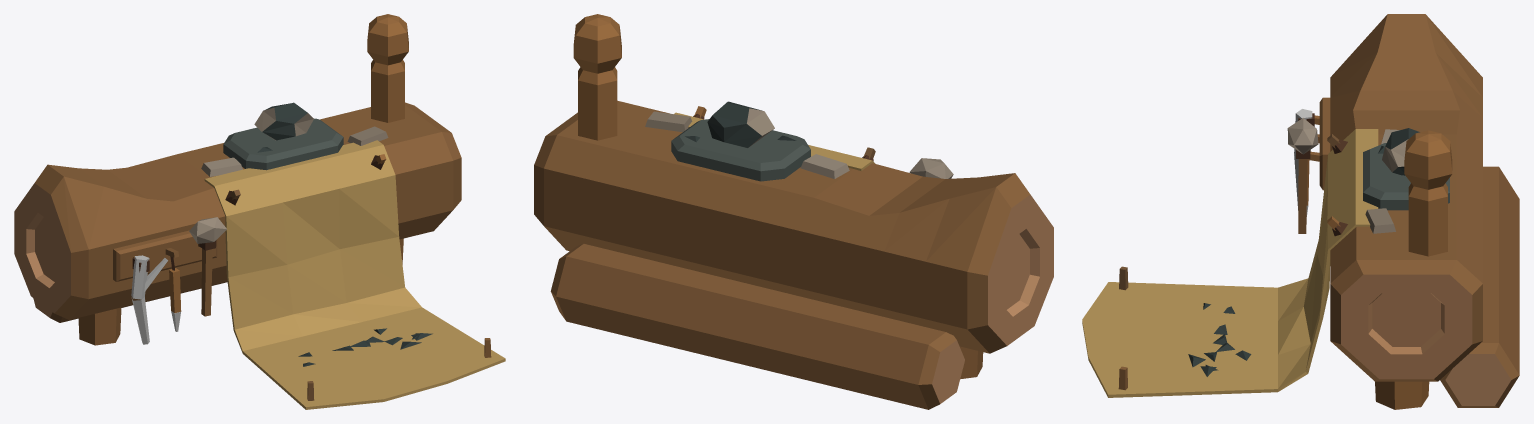
The model's file is flint-knapping-work-seat-c6daf6.glb.
The picture shows the model from 3 angles, left to right: view 1: azimuth 30°, elevation 25°; view 2: azimuth 150°, elevation 25°; view 3: azimuth 270°, elevation 25°; orthographic projection. The views are drawn at different scales.
Visible parts, largest first — view 1: seat-static, workpiece-mesh, tool-hammer-mesh, tool-billet-mesh, flakes-mesh, tool-flaker-mesh; view 2: seat-static, workpiece-mesh, tool-hammer-mesh; view 3: seat-static, tool-hammer-mesh, workpiece-mesh, flakes-mesh, tool-billet-mesh.
Boxes of the visible parts, x1,y1,x2,y2 form: seat-static: (14,14,505,409); workpiece-mesh: (254,102,313,152); tool-hammer-mesh: (189,217,226,316); tool-billet-mesh: (131,255,167,344); flakes-mesh: (298,328,432,366); tool-flaker-mesh: (169,256,181,331); seat-static: (534,14,1053,409); workpiece-mesh: (685,101,796,147); tool-hammer-mesh: (909,158,953,178); seat-static: (1082,14,1519,409); tool-hammer-mesh: (1287,118,1318,233); workpiece-mesh: (1378,128,1419,175); flakes-mesh: (1188,303,1251,376); tool-billet-mesh: (1294,109,1314,210).
Bounding box in the file's own units: 1.2 × 0.699 × 1.01.
